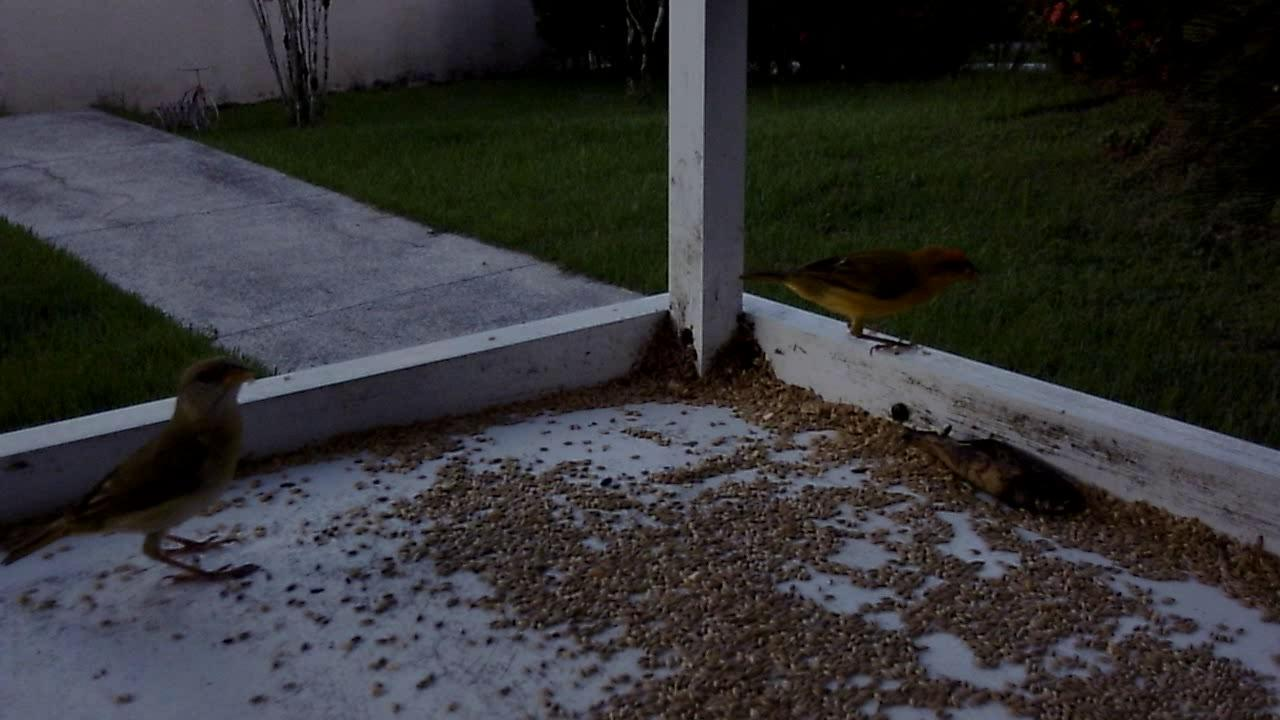canario_do_amazonas: (6, 345, 280, 595), (737, 233, 993, 362)
